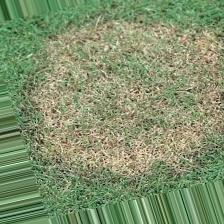patch: (57, 42, 200, 160)
